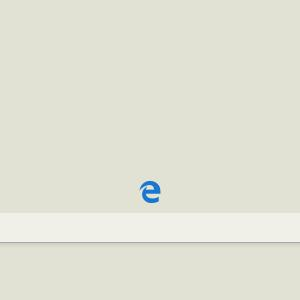edge: (140, 181, 161, 203)
